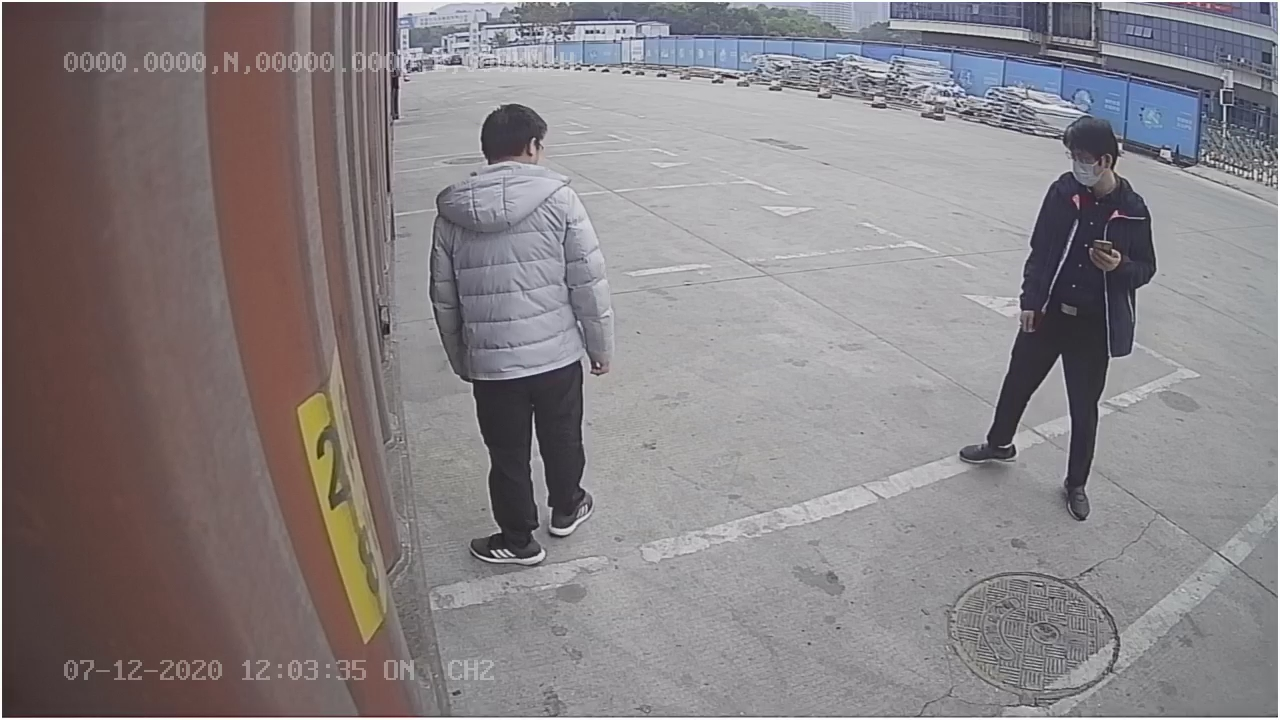person: (430, 93, 625, 567), (963, 105, 1159, 523)
